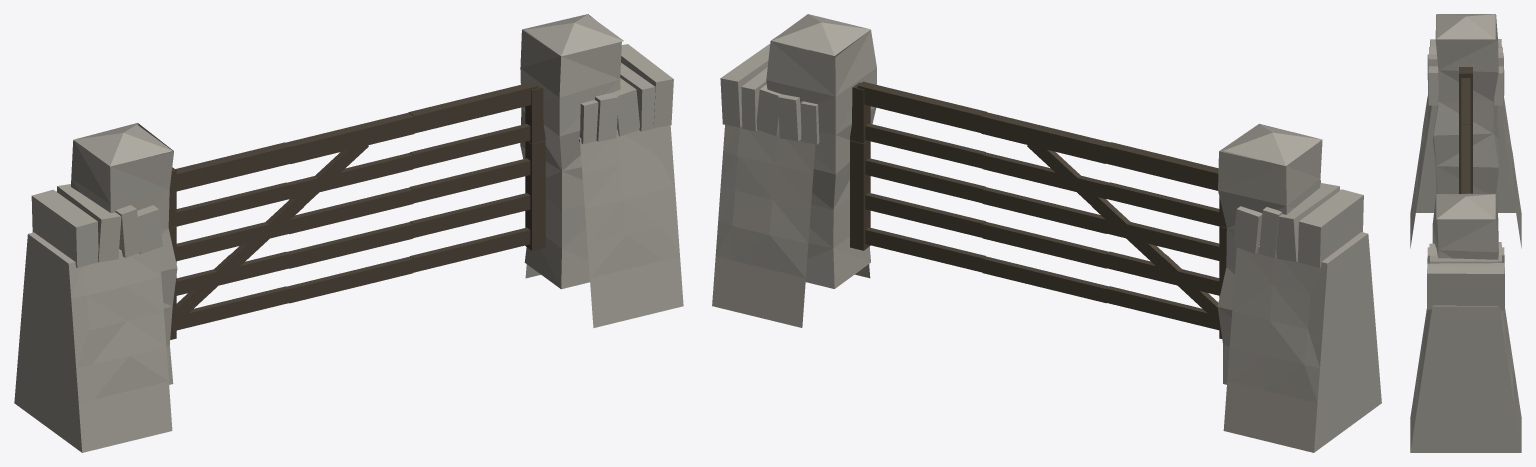
File: wall_gate.glb
The picture shows the model from 3 angles, left to right: view 1: azimuth 30°, elevation 25°; view 2: azimuth 150°, elevation 25°; view 3: azimuth 270°, elevation 25°; orthographic projection. The views are drawn at different scales.
Parts seen in each view (by area): view 1: wall_gate_lod0; view 2: wall_gate_lod0; view 3: wall_gate_lod0.
Boxes of the visible parts, box(x1,y1,x2,y2) form: wall_gate_lod0: box(14, 14, 683, 452); wall_gate_lod0: box(712, 14, 1381, 452); wall_gate_lod0: box(1410, 14, 1521, 452).
Size of what is drawn, in the model's own units: 4.01 by 1.76 by 0.7821.
